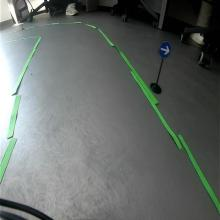right: (158, 40, 172, 59)
